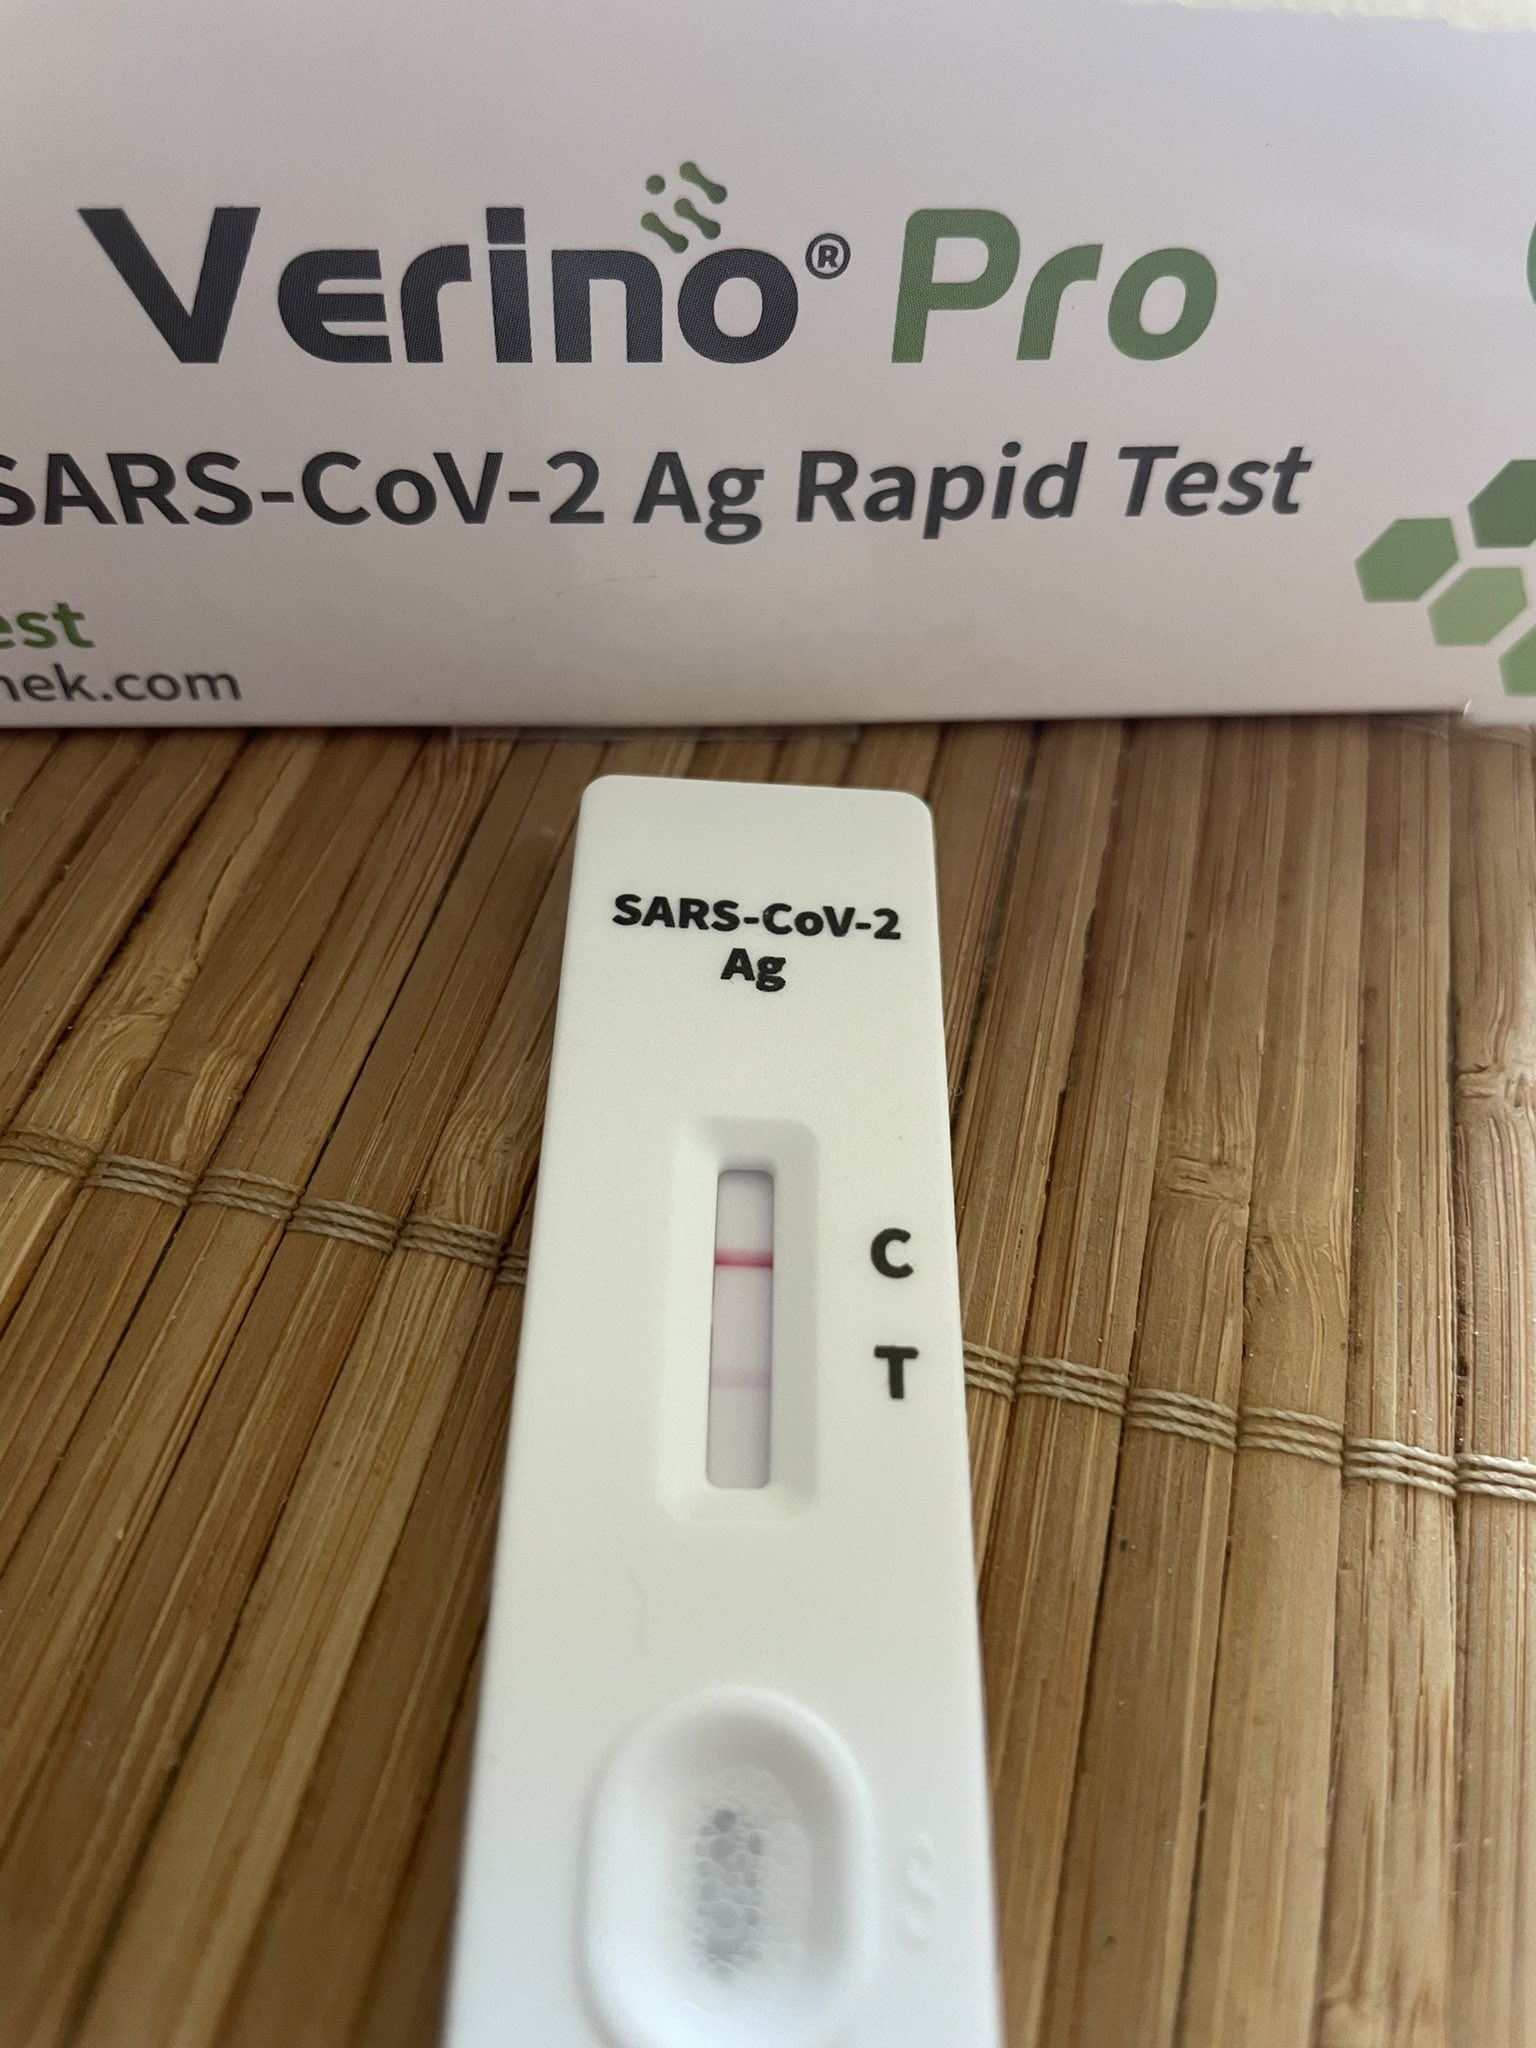positive: (678, 1121, 800, 1501)
